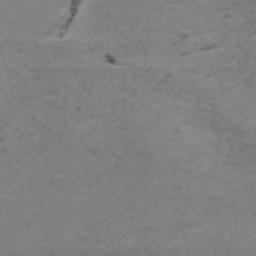Finishing roll printing: (59, 0, 84, 38), (104, 55, 119, 65)
